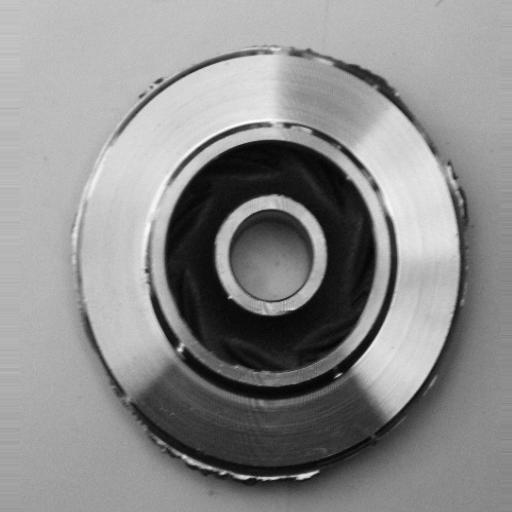casting_with_burr: (67, 39, 473, 487)
scratch: (359, 152, 408, 236), (230, 354, 315, 393), (140, 180, 174, 256), (257, 111, 326, 142), (170, 332, 206, 366)
